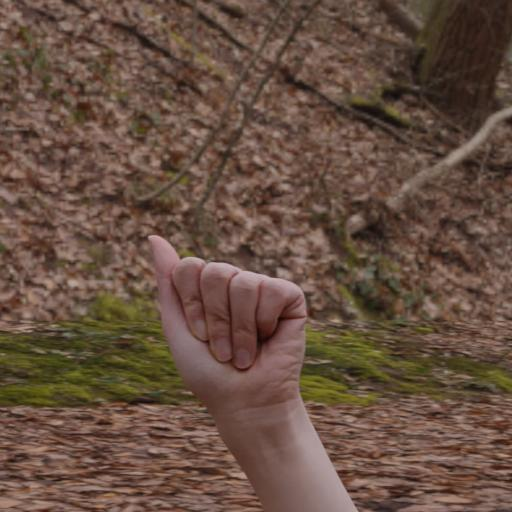A: (135, 219, 321, 421)
